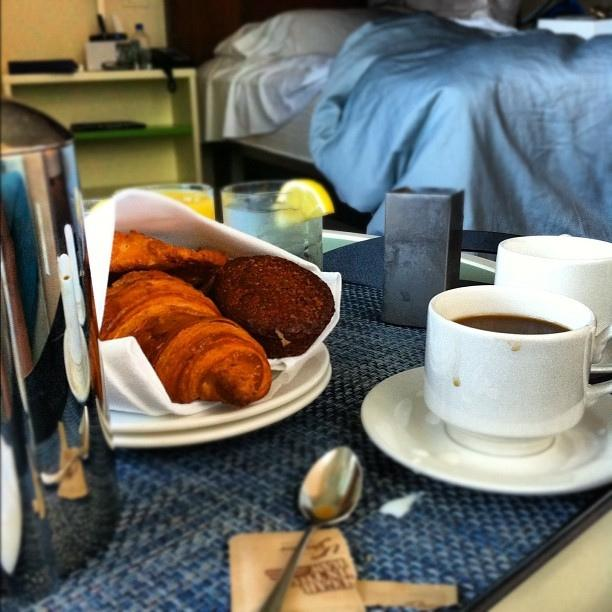lemon: (273, 179, 334, 232)
